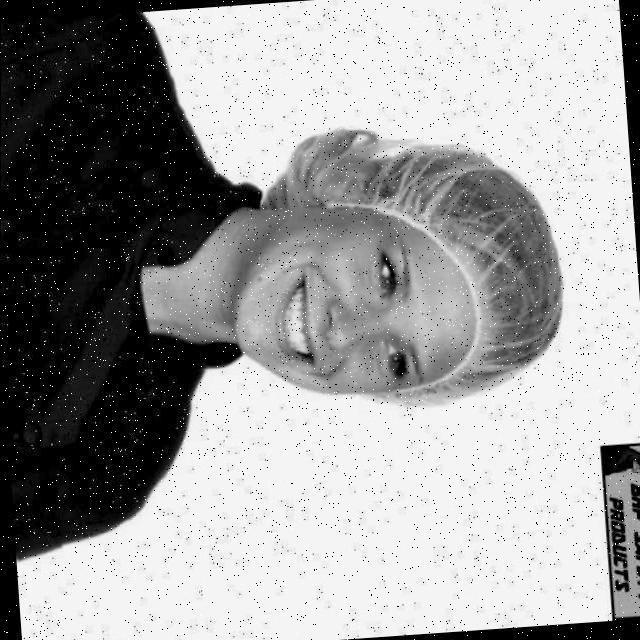no_hairnet: (244, 265, 364, 373)
